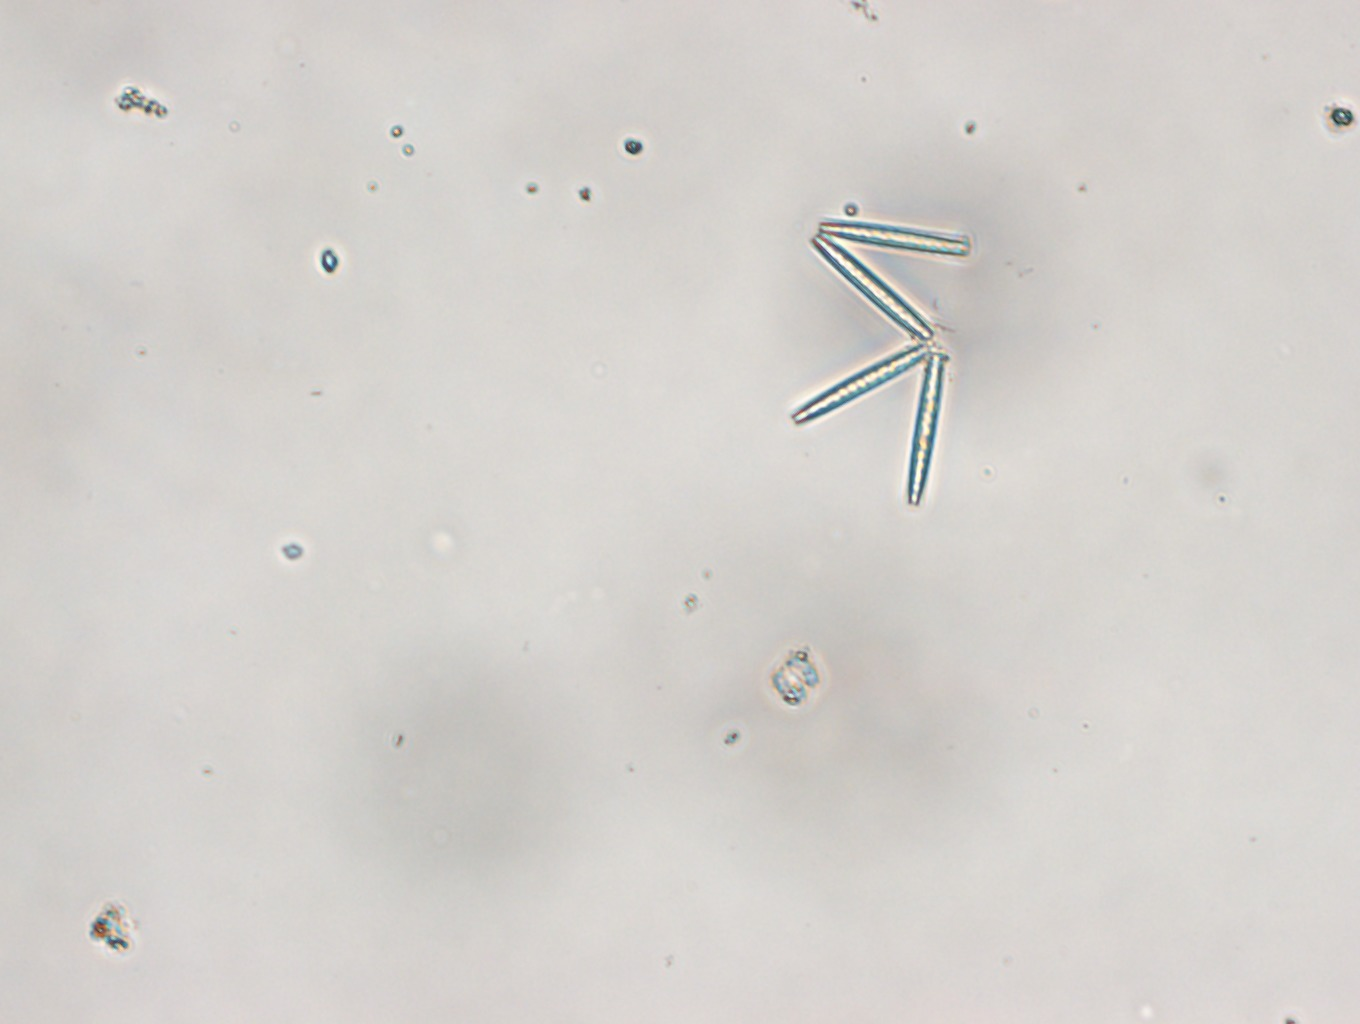thalassionema nitzschioides: (794, 217, 971, 511)
